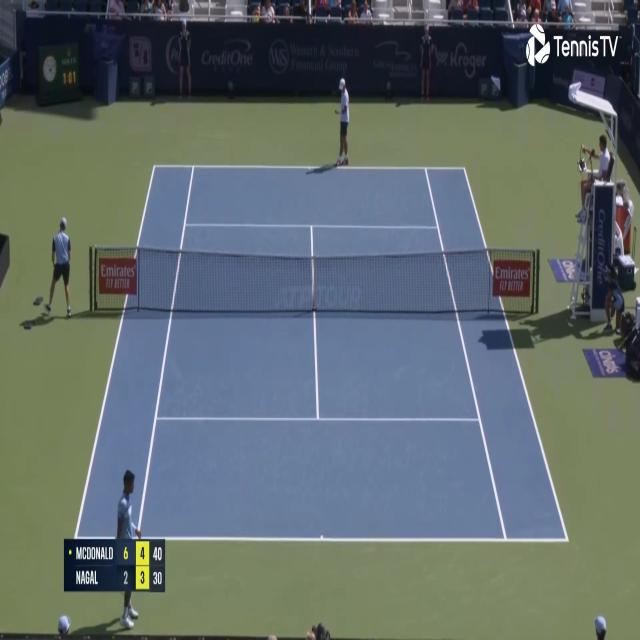tennis-player: (116, 466, 144, 634), (331, 74, 351, 170)
